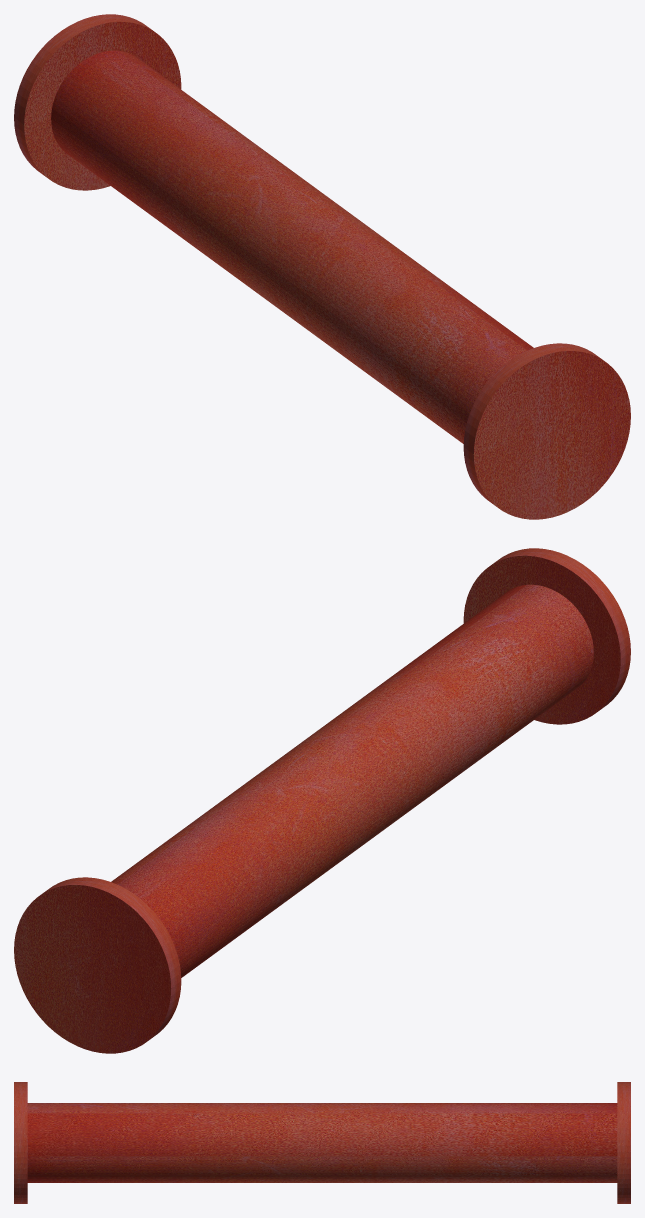
The model's file is Tuyau.fbx.
3 renders of one model, top to bottom at view 1: azimuth 30°, elevation 25°; view 2: azimuth 150°, elevation 25°; view 3: azimuth 270°, elevation 25°, orthographic. The views are drawn at different scales.
Parts seen in each view (by area): view 1: Pipes; view 2: Pipes; view 3: Pipes.
Part boxes in pixels (box(x1,y1,x2,y2)): Pipes: box(14, 14, 630, 519); Pipes: box(14, 548, 630, 1053); Pipes: box(14, 1082, 630, 1203).
Size of the model in its own units: 60.82 by 60.82 by 308.
Materials: 1 (1 with a texture image).
